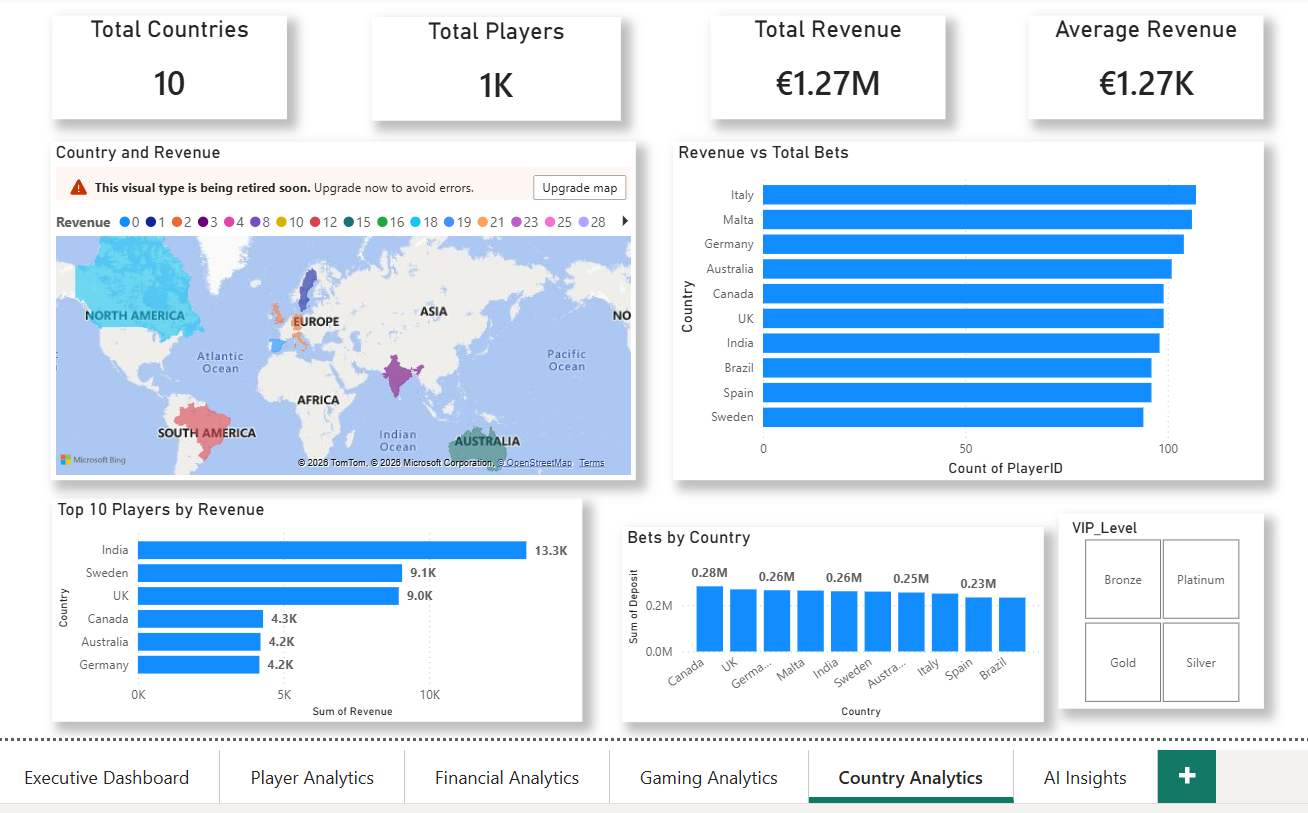

The page's visual inventory and layout, read from the dashboard file:
{"tool":"powerbi","page":{"name":"Country Analytics","canvas":[1280,720],"ordinal":4},"visuals":[{"type":"cardVisual","title":"Total Countries","fields":{"Data":["player_details.Total Countries"]},"box":[55.1,19.4,228.3,100.4],"z":0},{"type":"cardVisual","title":"Total Revenue","fields":{"Data":["player_details.Total Revenue"]},"box":[694.6,19.4,228.3,100.4],"z":1000},{"type":"cardVisual","title":"Average Revenue","fields":{"Data":["player_details.Average Revenue"]},"box":[1002.3,19.4,228.3,100.4],"z":2000},{"type":"clusteredBarChart","title":"Revenue vs Total Bets","fields":{"Category":["player_details.Country"],"Y":["CountNonNull(player_details.PlayerID)"]},"box":[657.4,140.9,573.2,328.7],"z":3000},{"type":"clusteredColumnChart","title":"Bets by Country","fields":{"Category":["player_details.Country"],"Y":["Sum(player_details.Deposit)"]},"box":[608.8,514.9,409.7,189.4],"z":4000},{"type":"clusteredBarChart","title":"Top 10 Players by Revenue","fields":{"Y":["Sum(player_details.Revenue)"],"Category":["player_details.Country"]},"box":[55.1,487.4,514.9,217],"z":5000},{"type":"slicer","fields":{"Values":["player_details.VIP_Level"]},"box":[1031.4,502,199.2,189.4],"z":6000},{"type":"cardVisual","title":"Total Players","fields":{"Data":["kpi_summary.Total Players"]},"box":[365.3,20.2,242.3,101],"z":7000},{"type":"azureMap","fields":{"Category":["player_details.Country"],"Series":["player_details.Revenue"]},"box":[55.1,140.9,553.8,328.7],"z":8000}]}

Visuals, with their boxes on the page's 1280x720 design canvas (x1, y1, x2, y2). These are canvas units, not pixel positions in the 1308x813 screenshot, which may show the page scaled, cropped or inside an application window:
"Total Countries" cardVisual: [55,19,283,120]
"Total Revenue" cardVisual: [695,19,923,120]
"Average Revenue" cardVisual: [1002,19,1231,120]
"Revenue vs Total Bets" clusteredBarChart: [657,141,1231,470]
"Bets by Country" clusteredColumnChart: [609,515,1018,704]
"Top 10 Players by Revenue" clusteredBarChart: [55,487,570,704]
slicer - player_details.VIP_Level: [1031,502,1231,691]
"Total Players" cardVisual: [365,20,608,121]
azureMap - player_details.Country x player_details.Revenue: [55,141,609,470]
